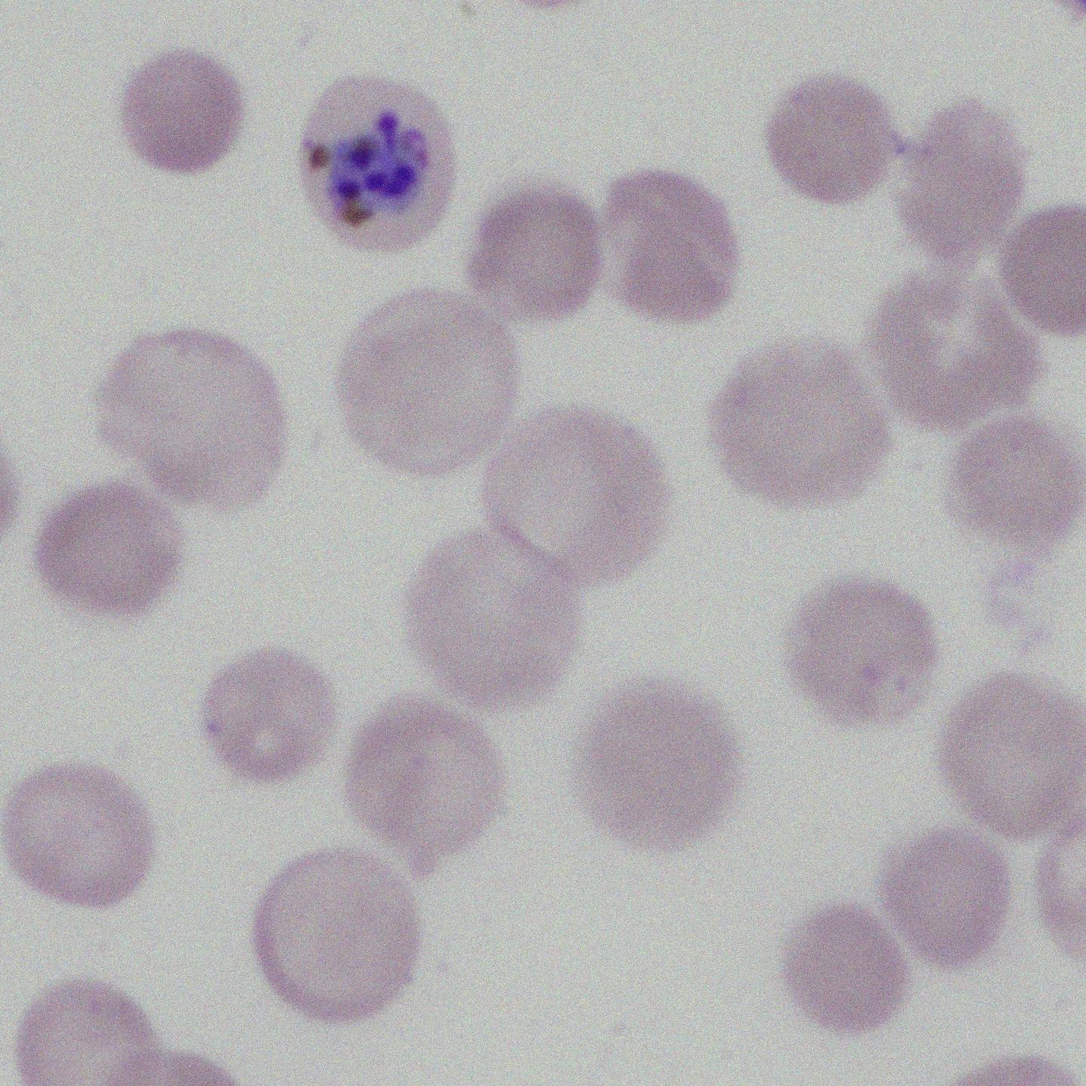Infected: (302, 66, 454, 263)
Uninfected: (397, 519, 579, 702), (699, 338, 902, 501), (478, 406, 662, 585), (343, 288, 515, 478), (93, 333, 285, 501), (252, 844, 423, 1026), (860, 268, 1036, 434), (576, 680, 733, 857), (345, 700, 505, 872), (594, 164, 745, 332), (775, 574, 939, 728), (896, 101, 1025, 278), (875, 816, 1013, 974), (946, 673, 1075, 840), (5, 768, 149, 914), (463, 169, 599, 321), (775, 896, 916, 1036), (757, 71, 891, 214), (38, 484, 179, 615), (936, 413, 1080, 538), (206, 640, 330, 783), (23, 972, 161, 1086), (121, 41, 238, 167), (994, 200, 1086, 330)
